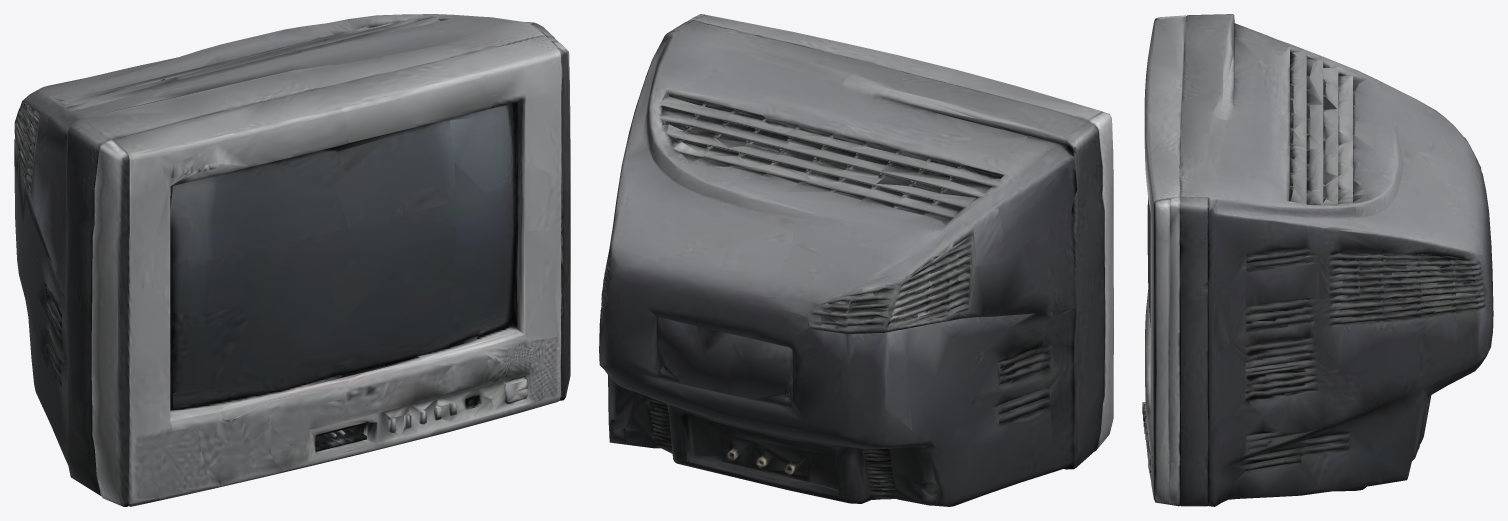
The model's file is crt01.glb.
The picture shows the model from 3 angles, left to right: view 1: azimuth 30°, elevation 25°; view 2: azimuth 150°, elevation 25°; view 3: azimuth 270°, elevation 25°; orthographic projection. The views are drawn at different scales.
Parts seen in each view (by area): view 1: tripo_node_e4042951-edfd-4682-9d05-9ac2b67aa0b7; view 2: tripo_node_e4042951-edfd-4682-9d05-9ac2b67aa0b7; view 3: tripo_node_e4042951-edfd-4682-9d05-9ac2b67aa0b7.
Boxes of the visible parts, x1,y1,x2,y2 form: tripo_node_e4042951-edfd-4682-9d05-9ac2b67aa0b7: (14, 14, 570, 506); tripo_node_e4042951-edfd-4682-9d05-9ac2b67aa0b7: (599, 14, 1113, 506); tripo_node_e4042951-edfd-4682-9d05-9ac2b67aa0b7: (1142, 14, 1493, 506).
Size of the model in its own units: 0.9808 by 0.7241 by 0.7352.
1 material, 1 textured.
